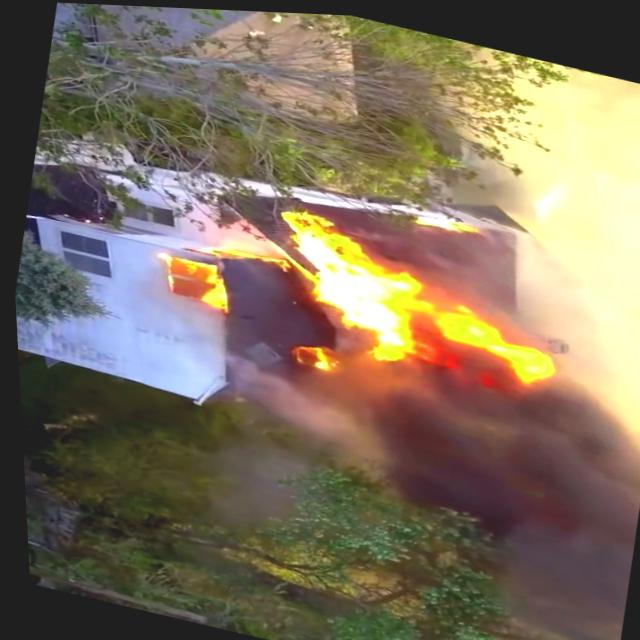fire: (274, 212, 546, 399)
smoke: (497, 377, 640, 640)
